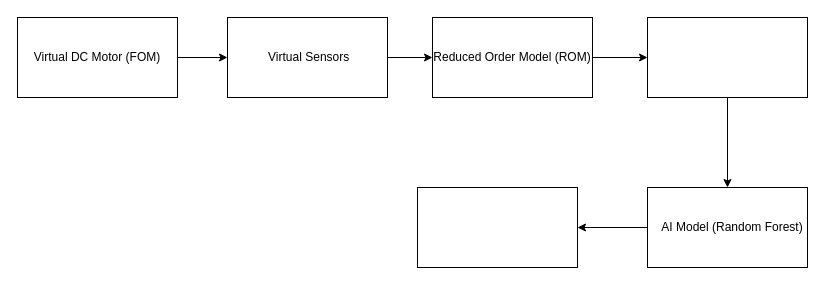
This 825x285 diagram has some shape labels left out. The box of each missing label's shape, as (x1, y1, x2, y2) in pixels:
Feature Extraction: (646, 16, 808, 98)
Maintenance Decision: (416, 186, 578, 268)
